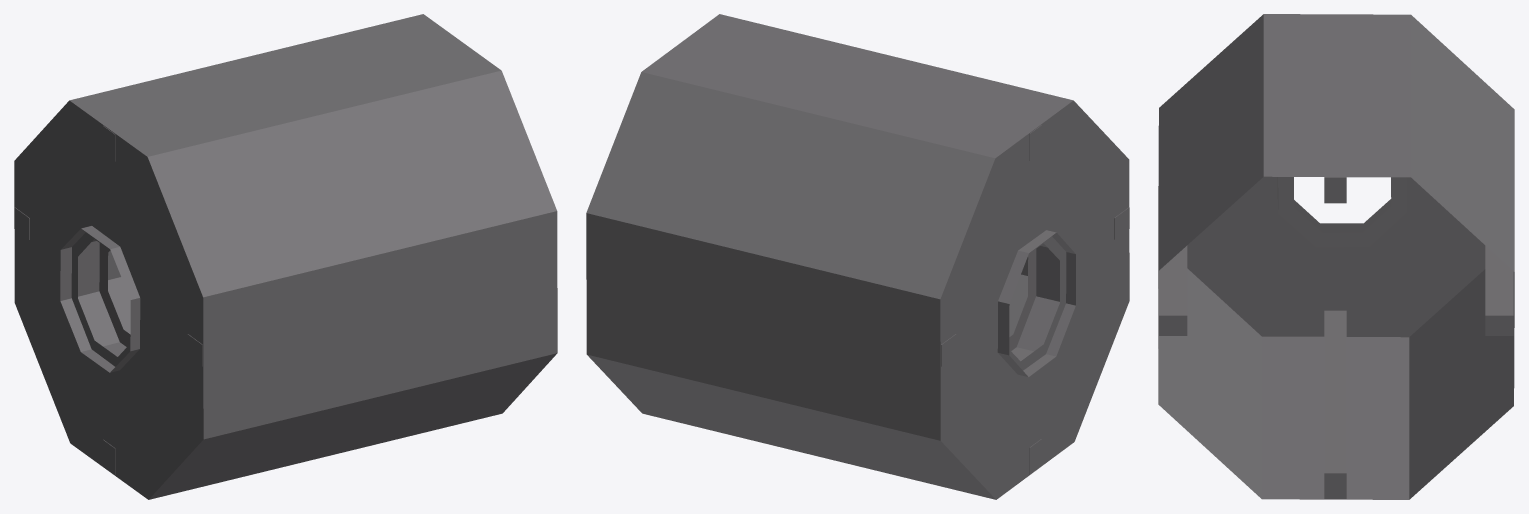
The model's file is MakineİçiDeliksiz.fbx.
3 renders of one model, left to right at view 1: azimuth 30°, elevation 25°; view 2: azimuth 150°, elevation 25°; view 3: azimuth 270°, elevation 25°, orthographic. The views are drawn at different scales.
Visible parts, largest first — view 1: Cylinder.013; view 2: Cylinder.013; view 3: Cylinder.013.
Part boxes in pixels (x1,y1,x2,y2): Cylinder.013: [14, 14, 557, 499]; Cylinder.013: [586, 14, 1129, 499]; Cylinder.013: [1158, 14, 1514, 499].
Size of the model in its own units: 134 by 120 by 120.
1 material, 1 textured.
